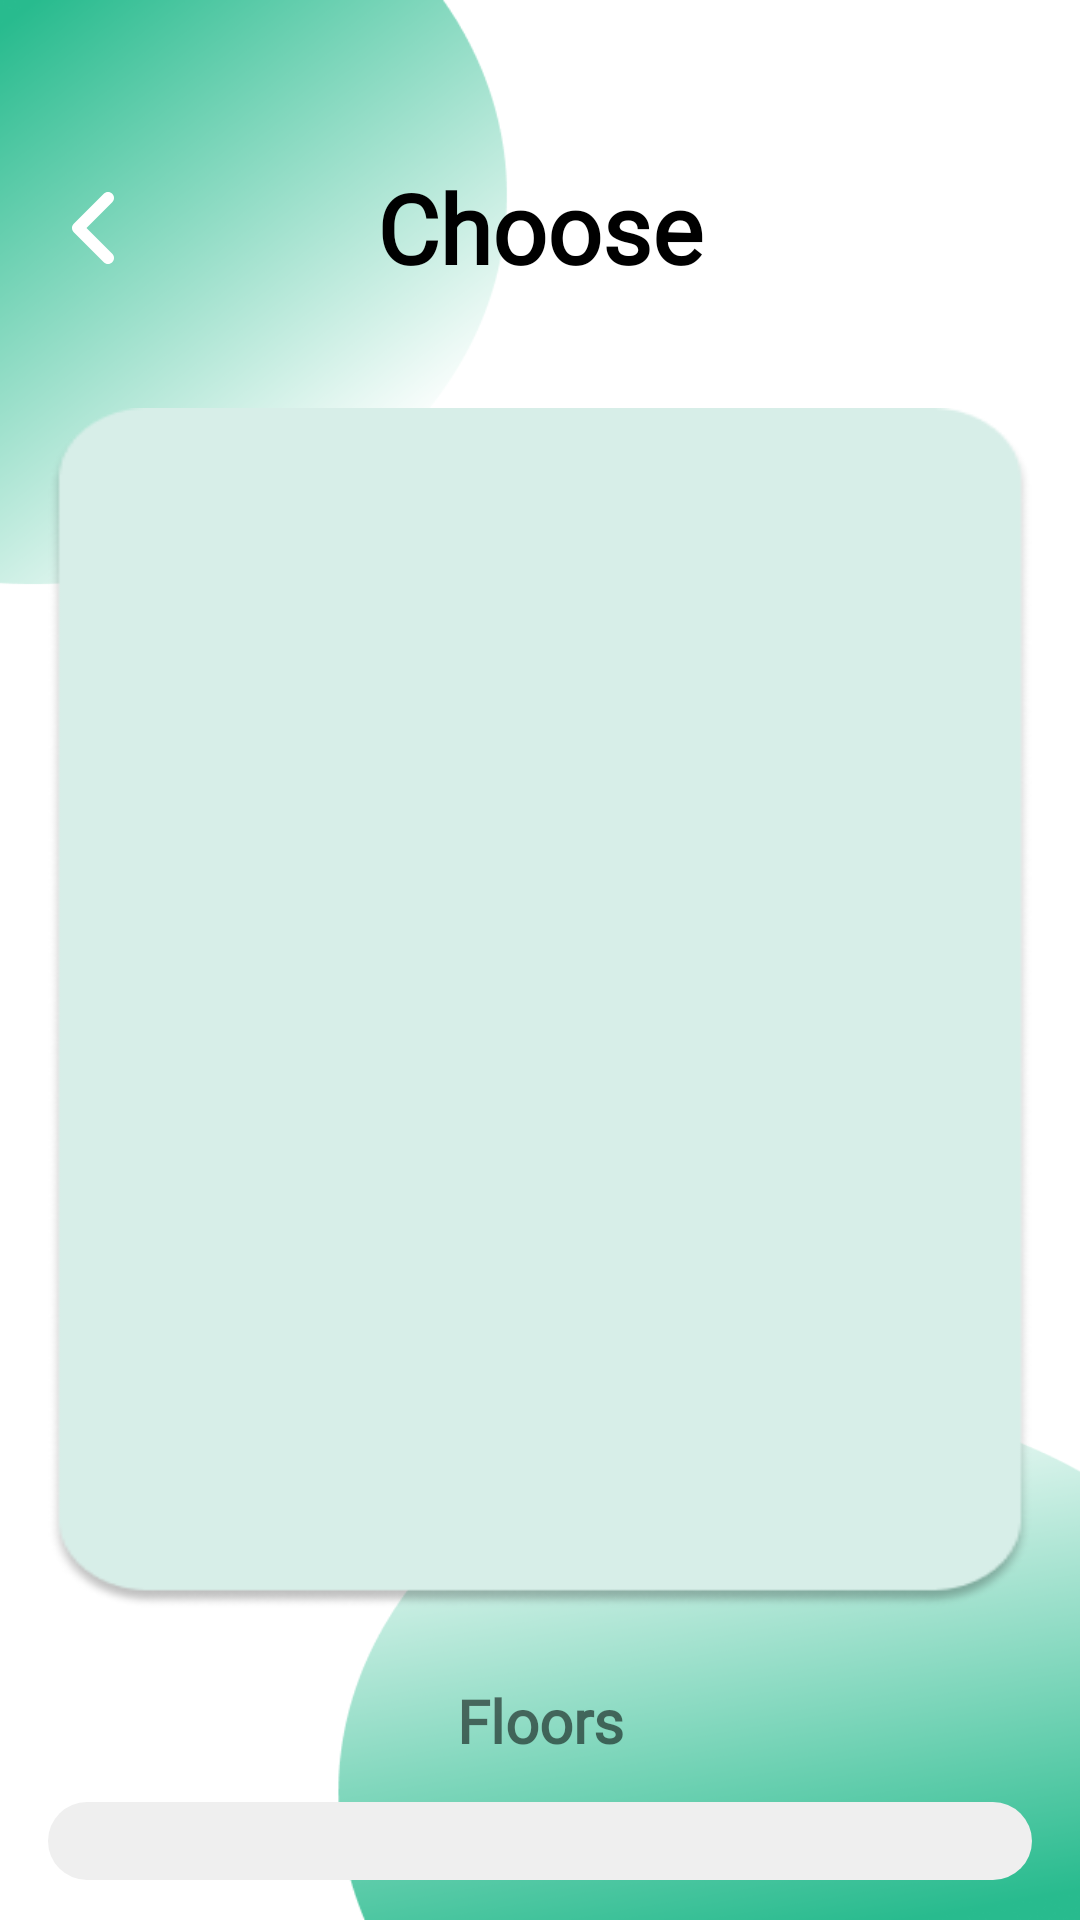

Screen size 1080x1920. Icon name, then its center in pixels as [x,y]:
wback: [103,222]
